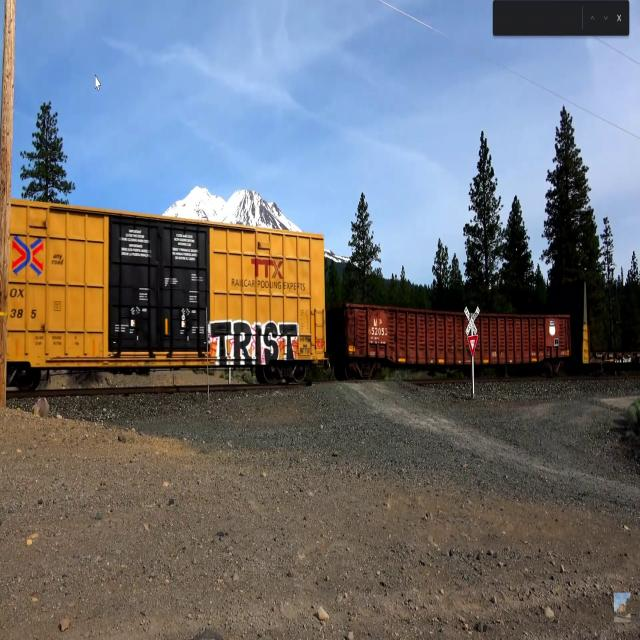boxcar: (8, 193, 331, 405)
flatcar_bulkhead: (573, 276, 640, 376)
gondola: (331, 297, 574, 381)
